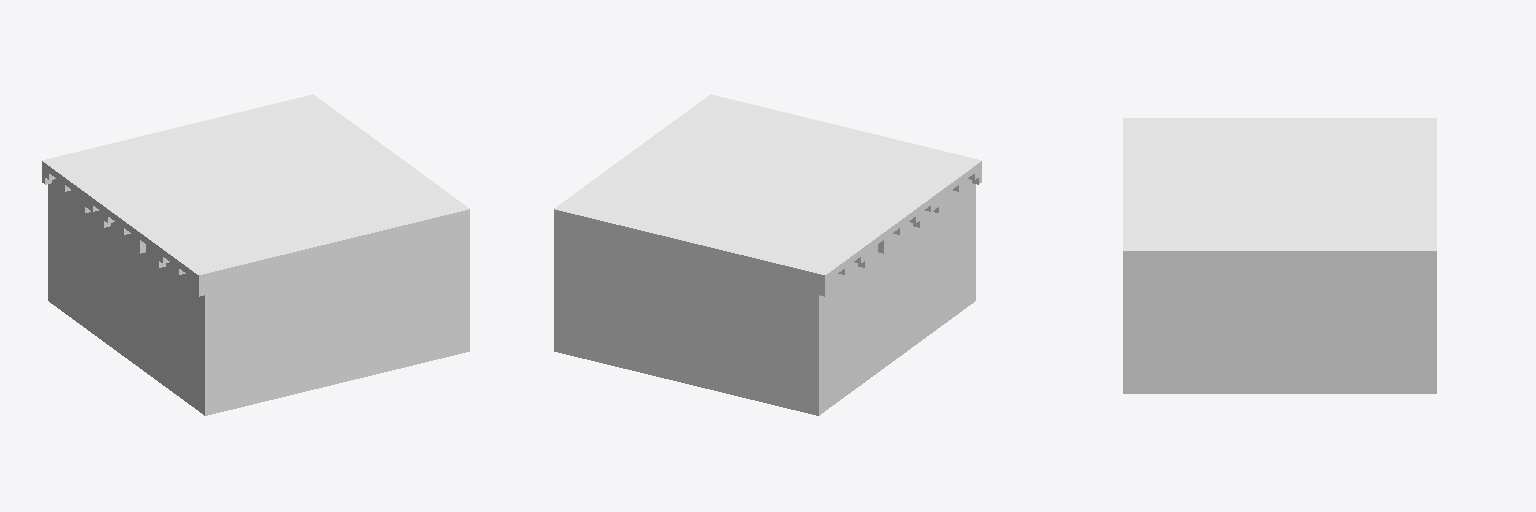
The model's file is grassScratch.obj.
3 renders of one model, left to right at view 1: azimuth 30°, elevation 25°; view 2: azimuth 150°, elevation 25°; view 3: azimuth 270°, elevation 25°, orthographic.
Visible parts, largest first — view 1: object 1; view 2: object 1; view 3: object 1.
Part boxes in pixels (x1,y1,x2,y2): object 1: (42, 94, 469, 415); object 1: (554, 94, 981, 415); object 1: (1123, 118, 1436, 393).
Bounding box in the file's own units: 4 × 2 × 4.